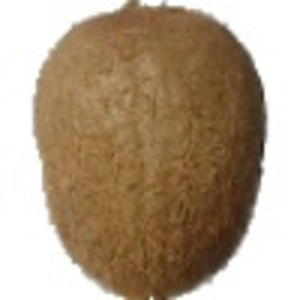kiwi: (16, 1, 268, 300)
